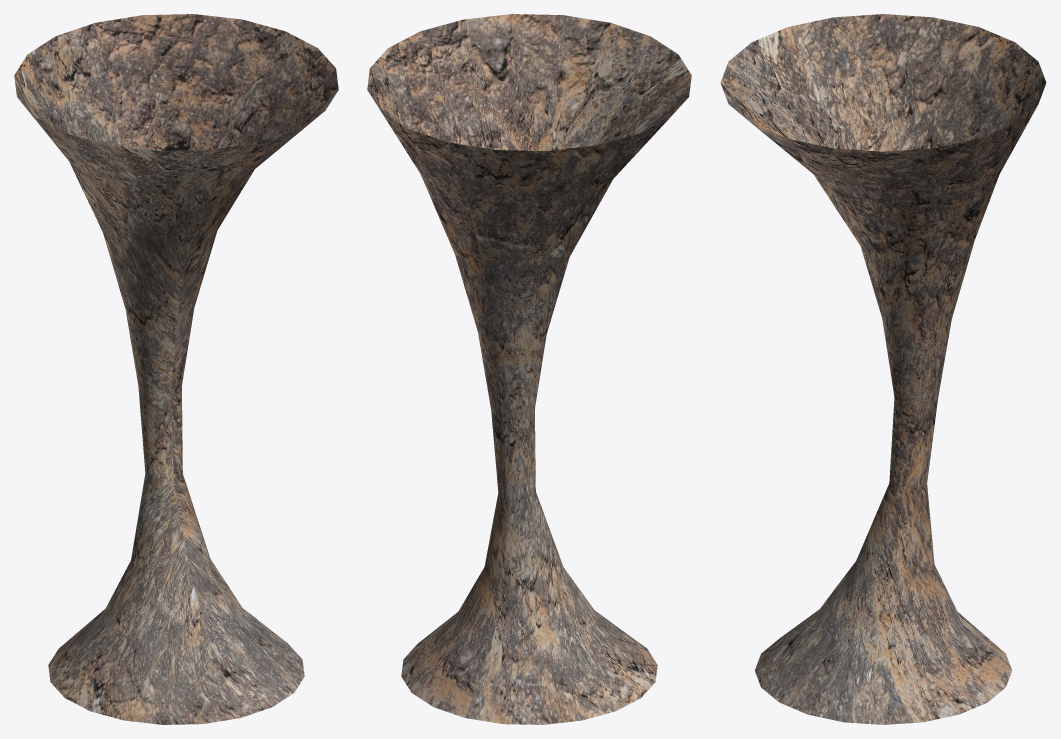
Rendered from CavePillar.fbx.
3 views of the same model, side by side, from view 1: azimuth 30°, elevation 25°; view 2: azimuth 150°, elevation 25°; view 3: azimuth 270°, elevation 25° (orthographic).
Visible parts, largest first — view 1: pCylinder1; view 2: pCylinder1; view 3: pCylinder1.
Boxes of the visible parts, x1,y1,x2,y2 form: pCylinder1: (14, 14, 338, 724); pCylinder1: (367, 14, 691, 724); pCylinder1: (720, 14, 1046, 724).
Size of the model in its own units: 20.37 by 40.52 by 20.37.
